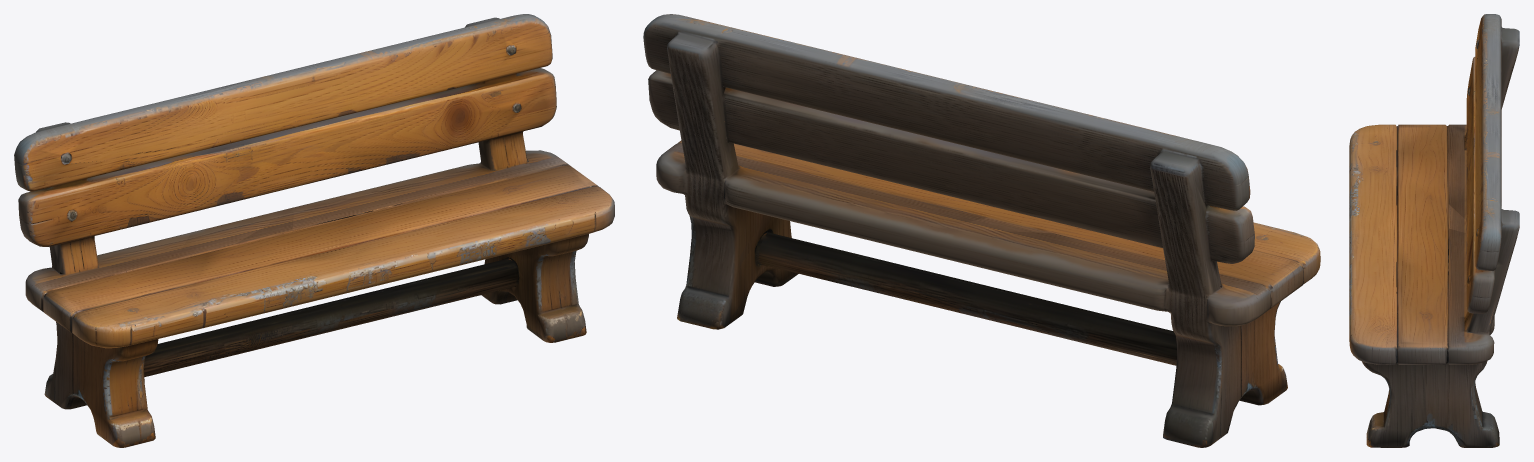
Rendered from bench_long.glb.
The picture shows the model from 3 angles, left to right: view 1: azimuth 30°, elevation 25°; view 2: azimuth 150°, elevation 25°; view 3: azimuth 270°, elevation 25°; orthographic projection. The views are drawn at different scales.
Parts seen in each view (by area): view 1: bench_long; view 2: bench_long; view 3: bench_long.
Part boxes in pixels (left/top/right/bottom): bench_long: left=14, top=14, right=614, bottom=447; bench_long: left=643, top=14, right=1320, bottom=447; bench_long: left=1349, top=14, right=1519, bottom=447.
Bounding box in the file's own units: 1.6 × 0.7641 × 0.5137.
Materials: 1 (1 with a texture image).
